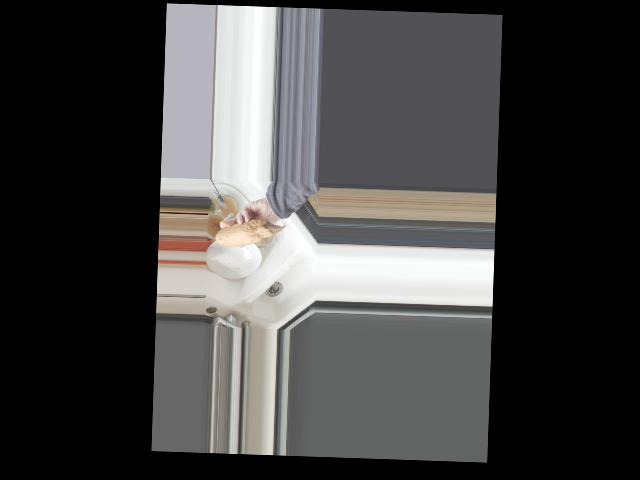sweet_potato: (215, 218, 285, 250)
